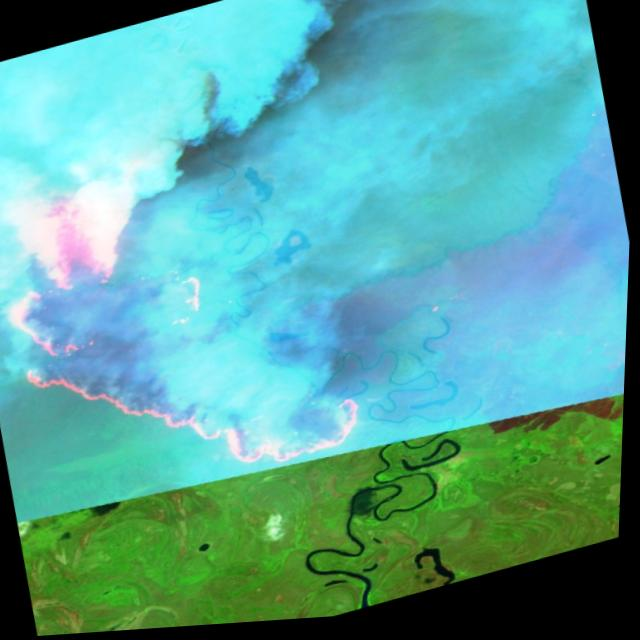fire: (0, 103, 407, 538)
